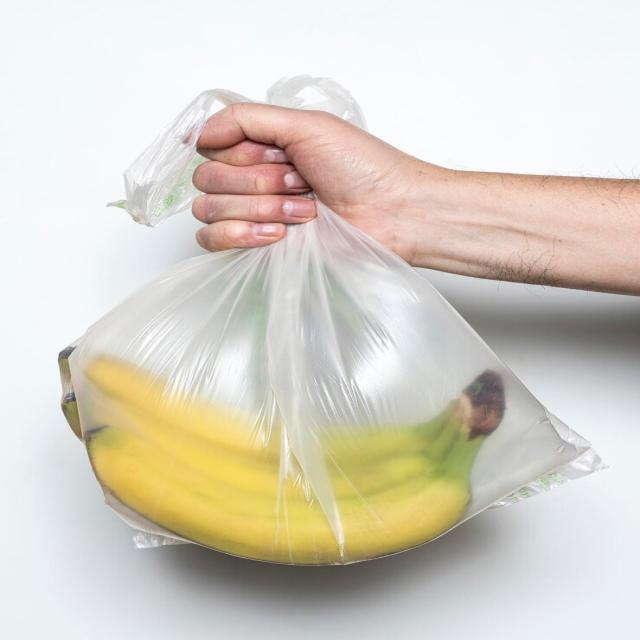banana_peel: (42, 326, 522, 567)
